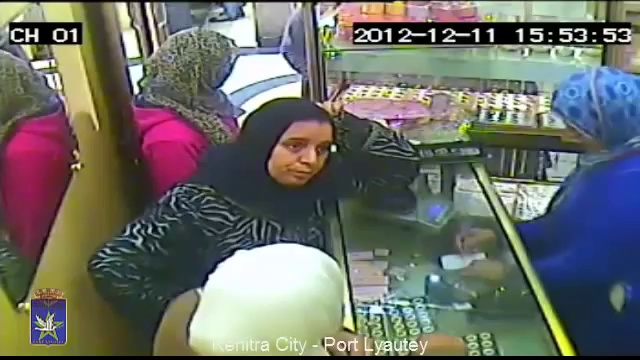face: (266, 130, 332, 185)
